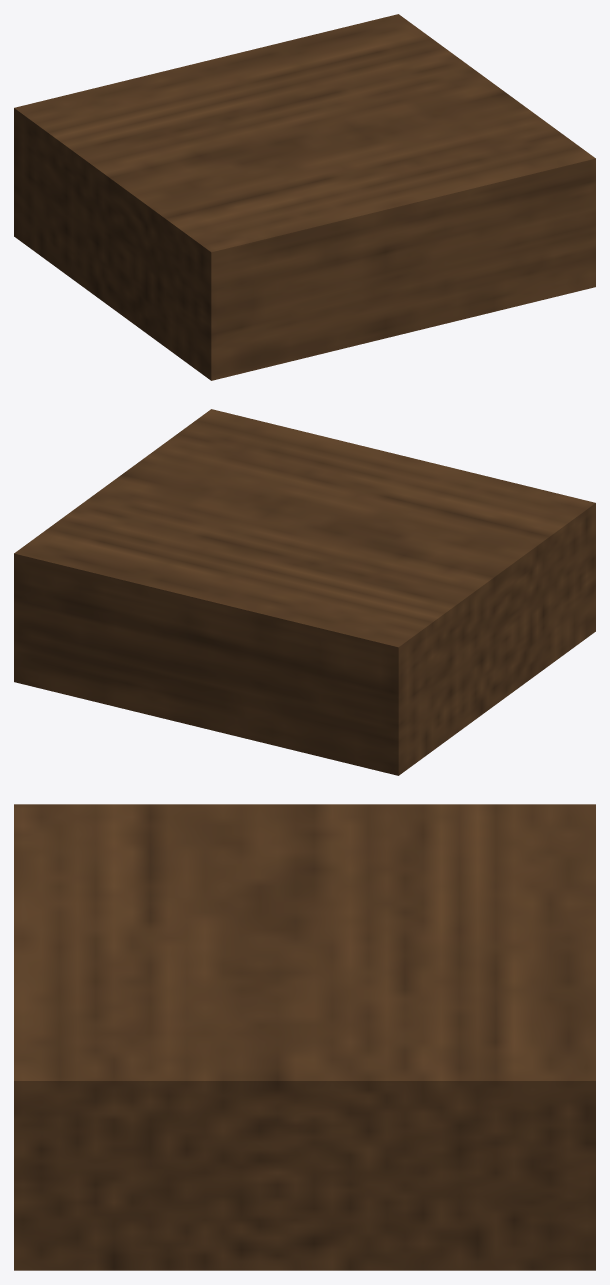
File: Column capital__n8.glb
3 renders of one model, top to bottom at view 1: azimuth 30°, elevation 25°; view 2: azimuth 150°, elevation 25°; view 3: azimuth 270°, elevation 25°, orthographic. The views are drawn at different scales.
Parts seen in each view (by area): view 1: Column capital; view 2: Column capital; view 3: Column capital.
Part boxes in pixels (x1,y1,x2,y2): Column capital: (14, 14, 595, 380); Column capital: (14, 409, 595, 775); Column capital: (14, 804, 595, 1270).
Size of the model in its own units: 0.72 by 0.23 by 0.64.
1 material, 1 textured.
